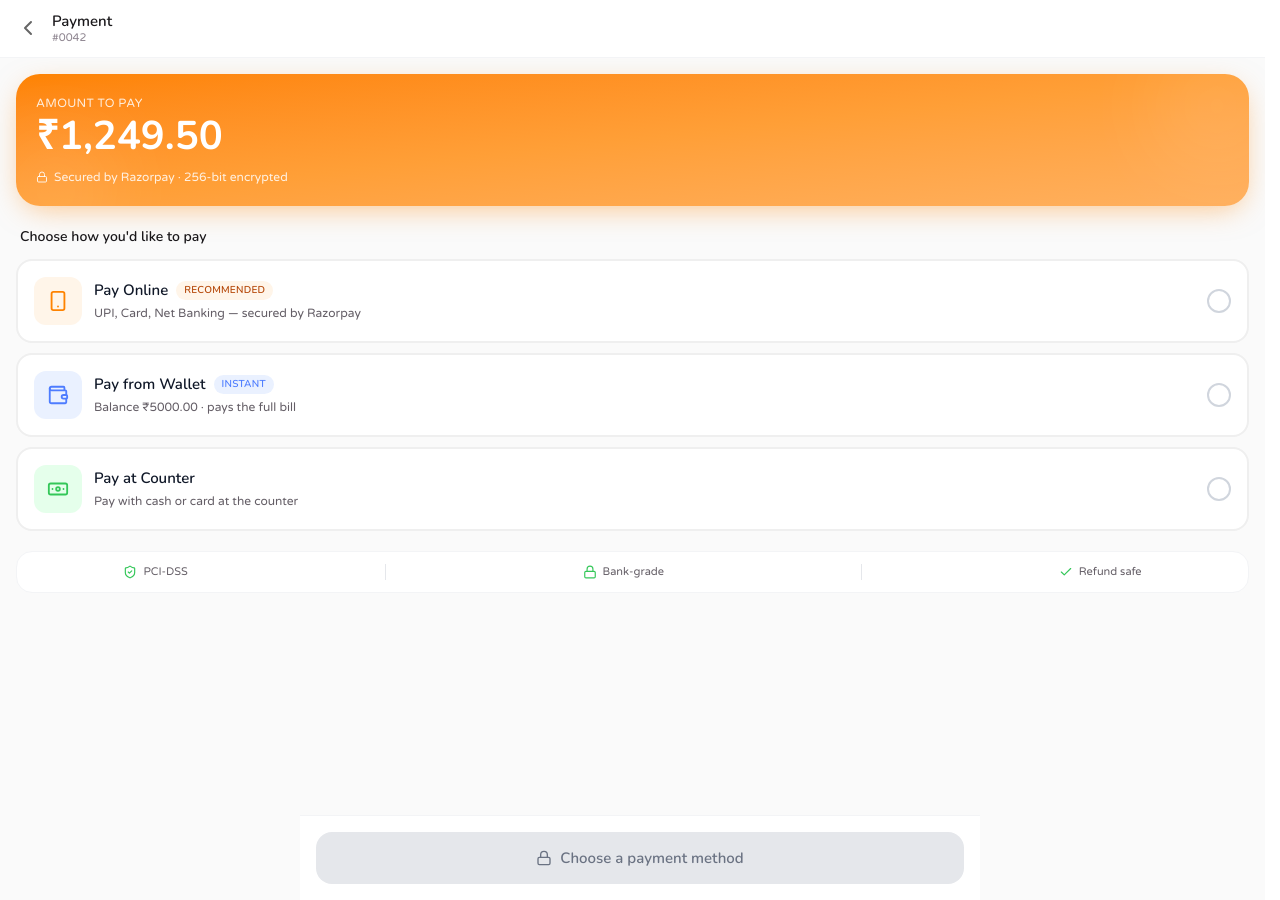
Scenario: Payment — amount display › the Pay button label shows the amount to the paisa
Click the button "Pay Online" at {"x": 58, "y": 300}, box [16,258,1249,342]
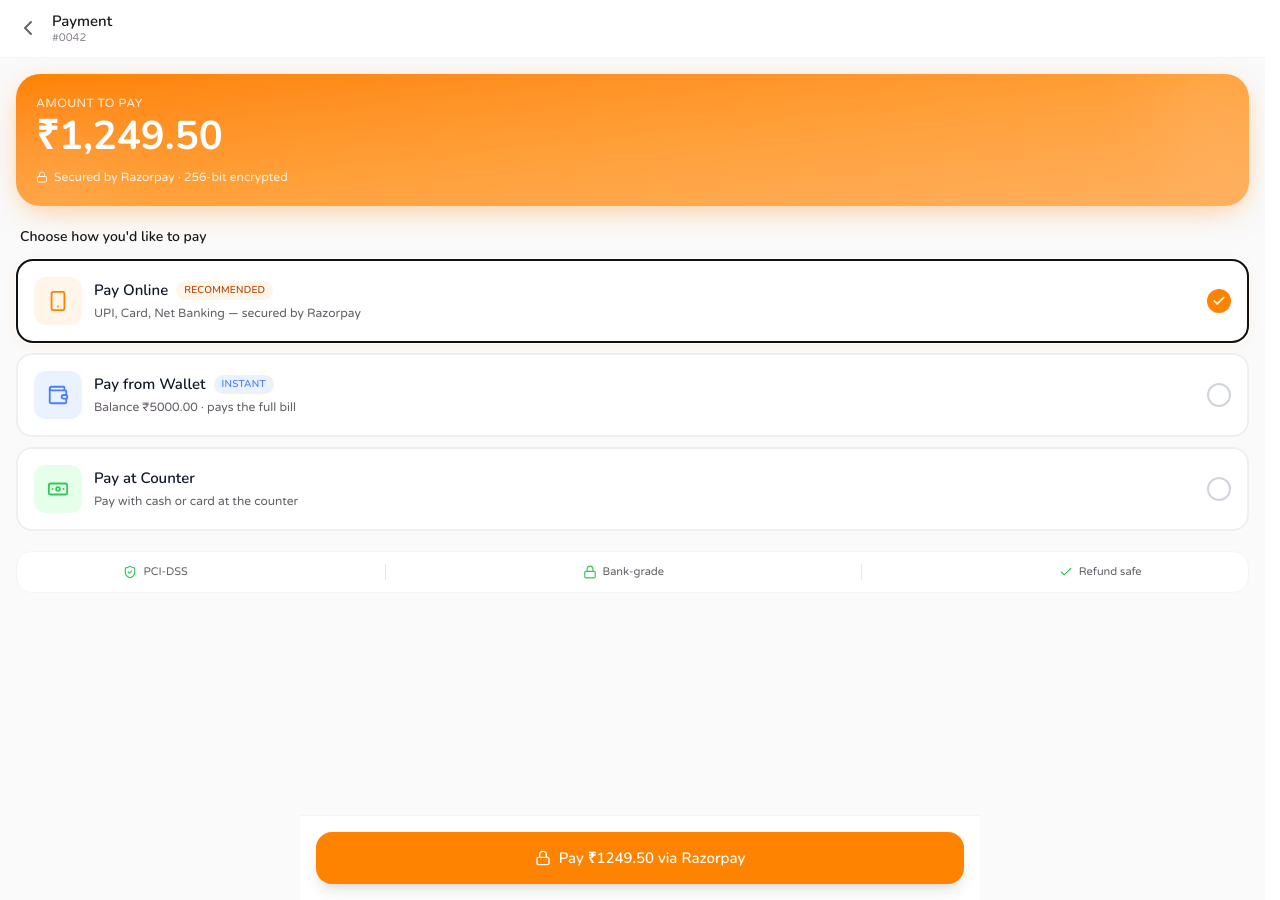
Result: the button "Pay ₹1249.50 via Razorpay" is shown at [316,832,964,884]
